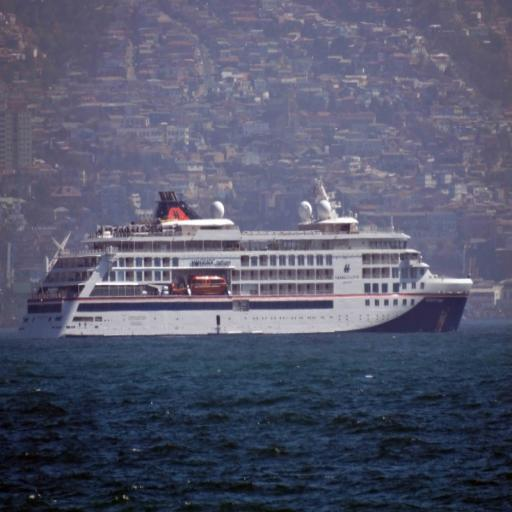cruises: (12, 183, 476, 344)
